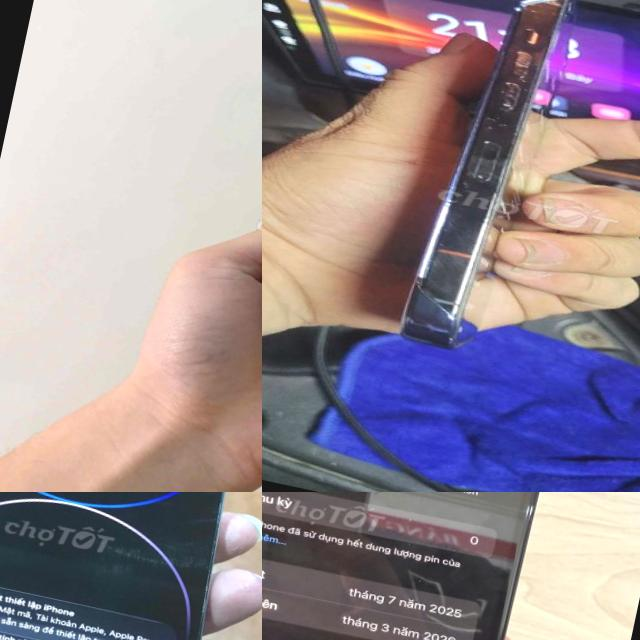scratch: (446, 58, 560, 170)
